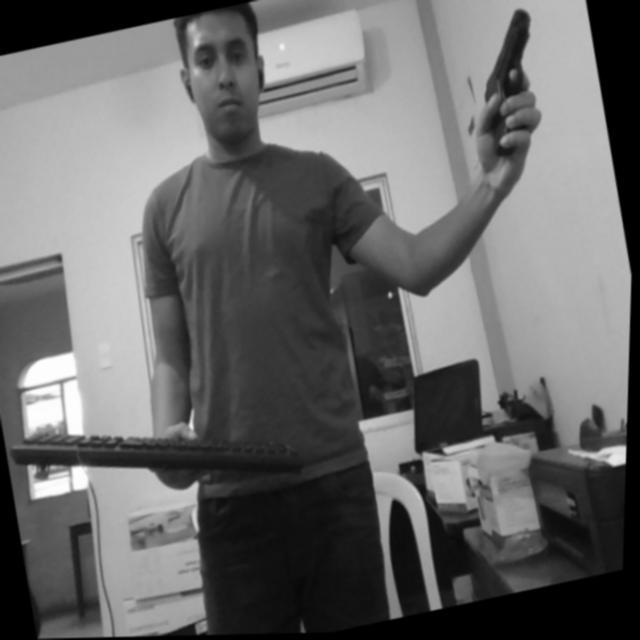weapon: (461, 2, 562, 164)
